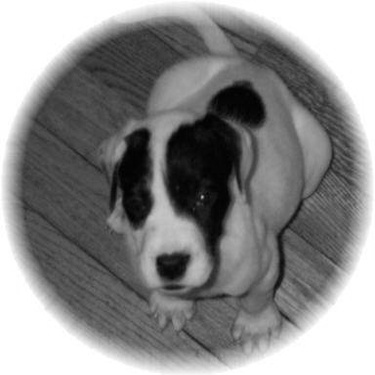dog: (83, 1, 346, 350)
